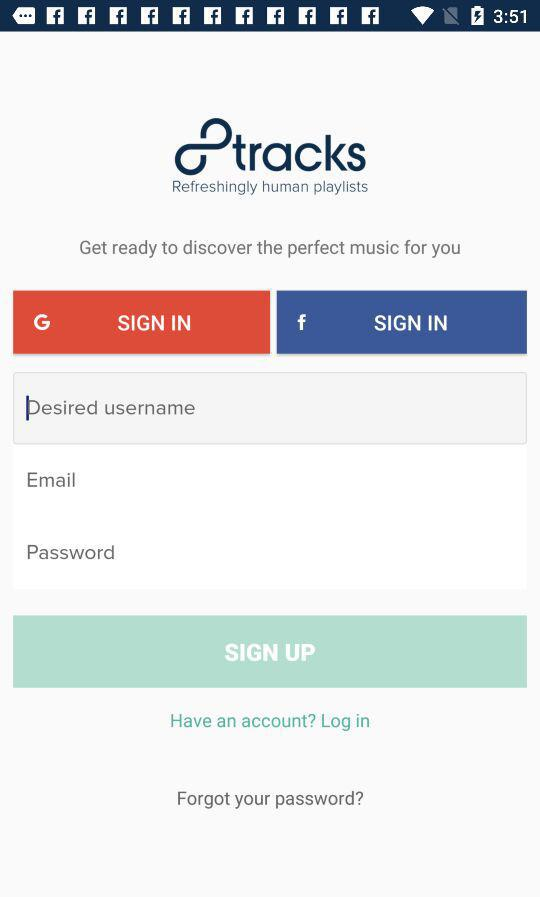EditText: (13, 372, 527, 446)
Image: (172, 118, 369, 197)
Text: (80, 240, 461, 260), (171, 713, 371, 732), (178, 790, 364, 810), (28, 400, 196, 415), (28, 545, 115, 560), (28, 472, 76, 488)
TextButton: (14, 615, 528, 689), (14, 291, 271, 355), (277, 291, 528, 355)
UpperTaskBar: (1, 1, 540, 33)
